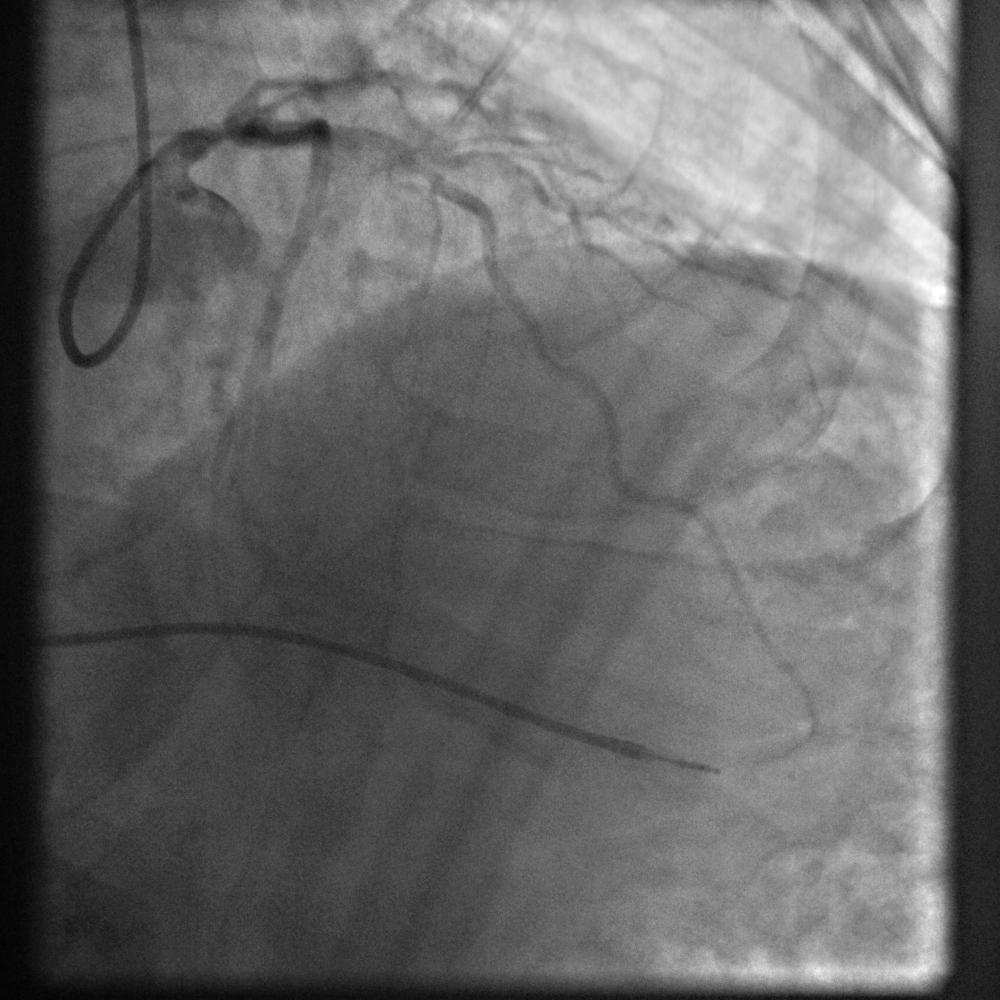Stenosis: (388, 121, 454, 178)
